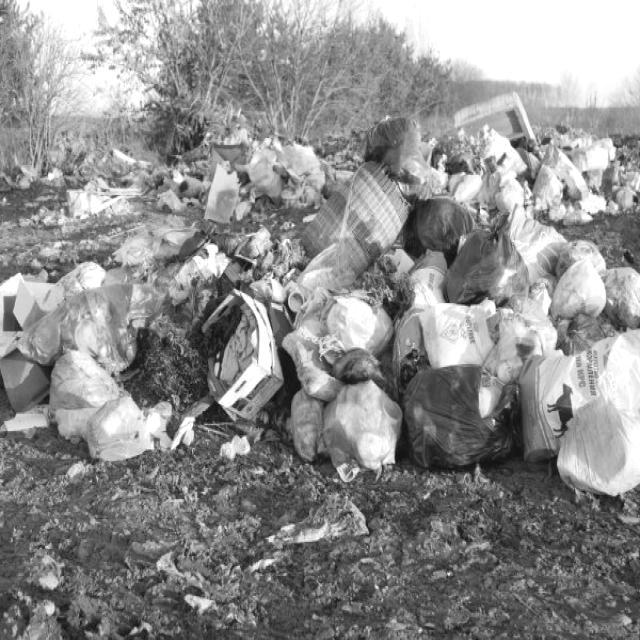high trash: (0, 96, 640, 496)
